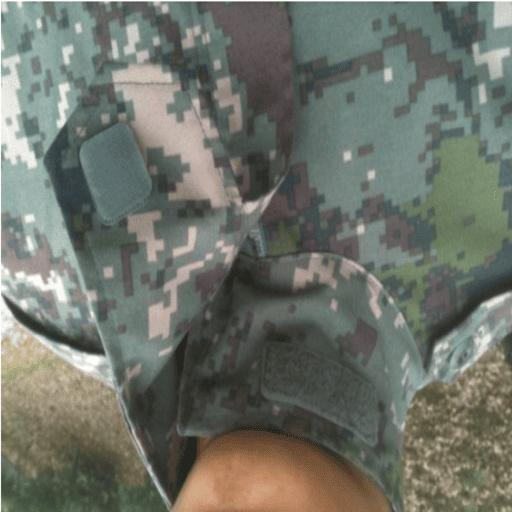korea army: (5, 3, 510, 509)
